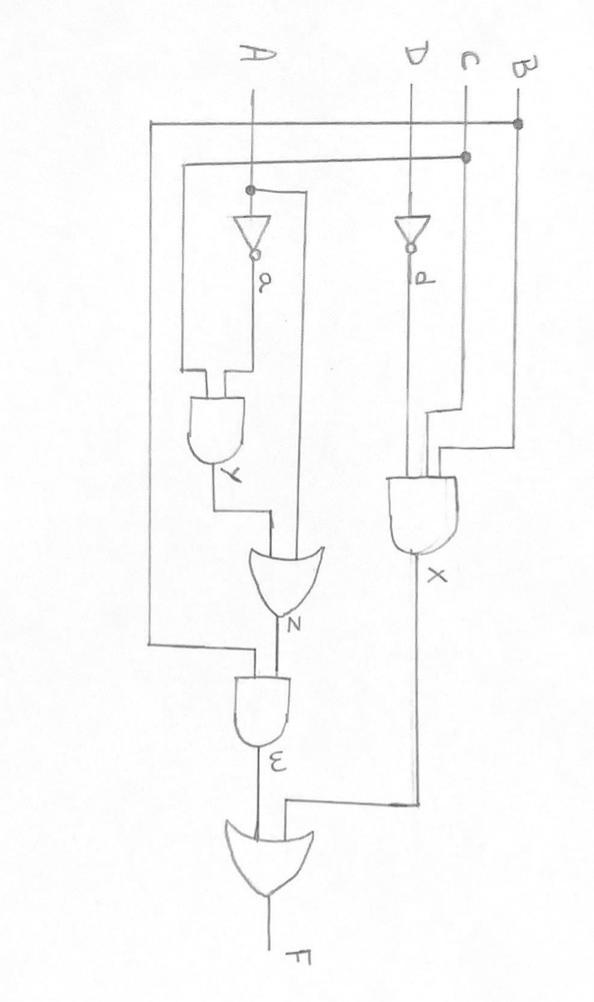AND: (372, 458, 471, 562), (222, 658, 305, 755), (180, 382, 254, 466)
NOT: (380, 206, 446, 261), (218, 210, 281, 266)
OR: (212, 812, 333, 901), (238, 534, 332, 622)
